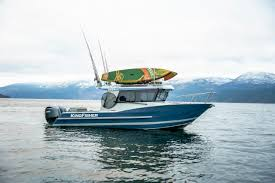boat: (44, 25, 216, 132)
